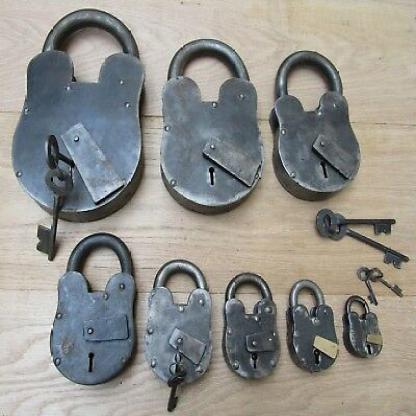keys: (315, 208, 410, 268), (33, 134, 73, 262), (354, 265, 406, 310), (164, 359, 188, 414)
